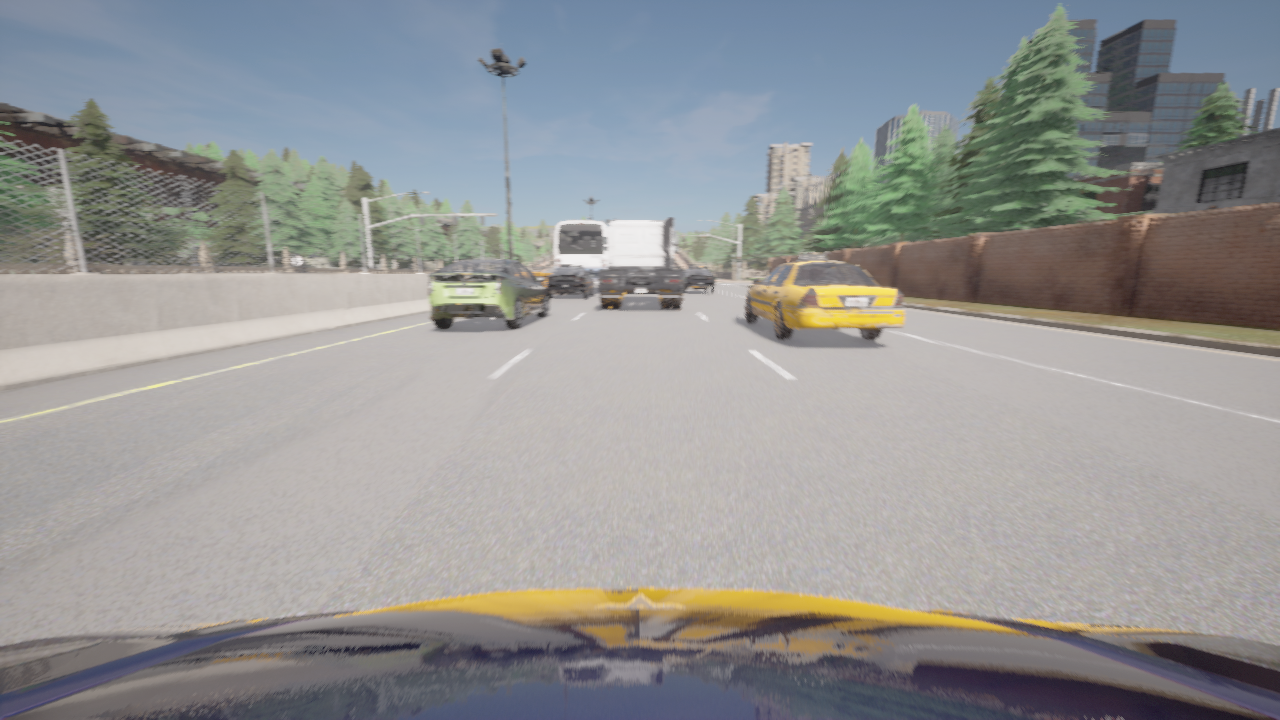cyclist: (0, 588, 1279, 719), (745, 254, 905, 340), (428, 259, 548, 329), (598, 218, 683, 309), (555, 220, 608, 286), (547, 265, 593, 298), (683, 266, 714, 292)
